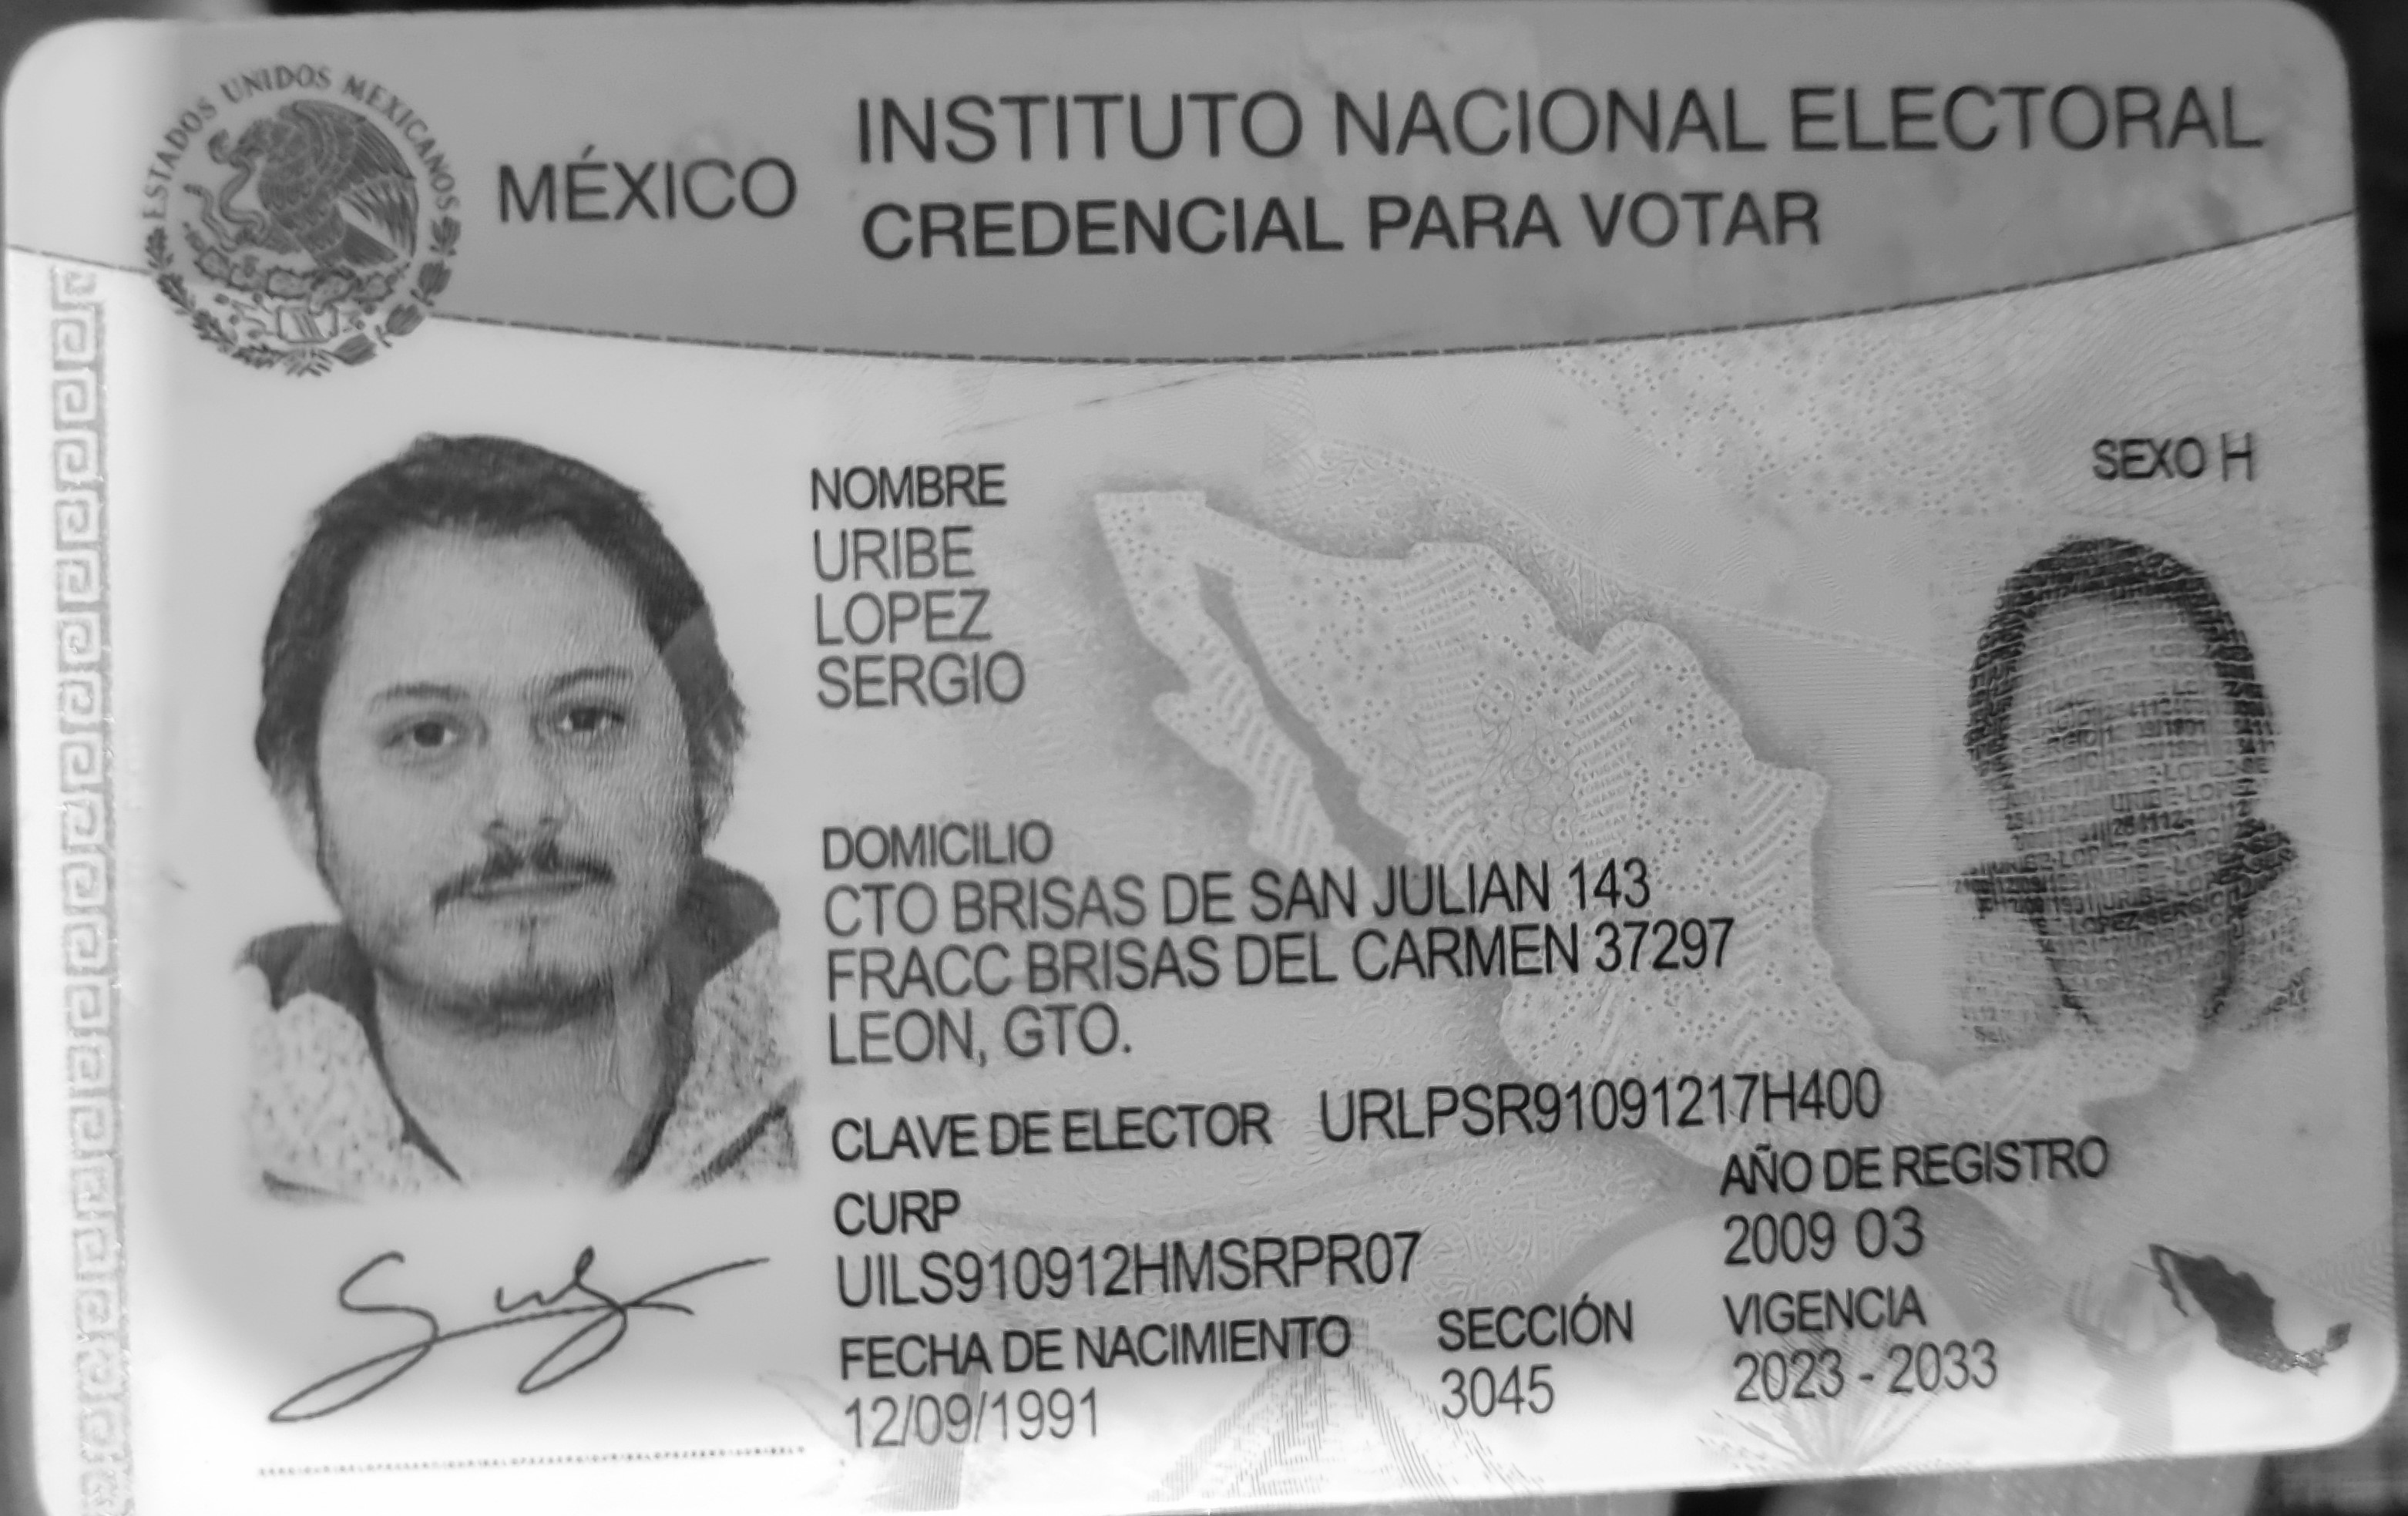ESCUDO: (140, 65, 463, 379)
MAPA: (2146, 1242, 2352, 1378)
PALABRA: (1790, 86, 2263, 150)
